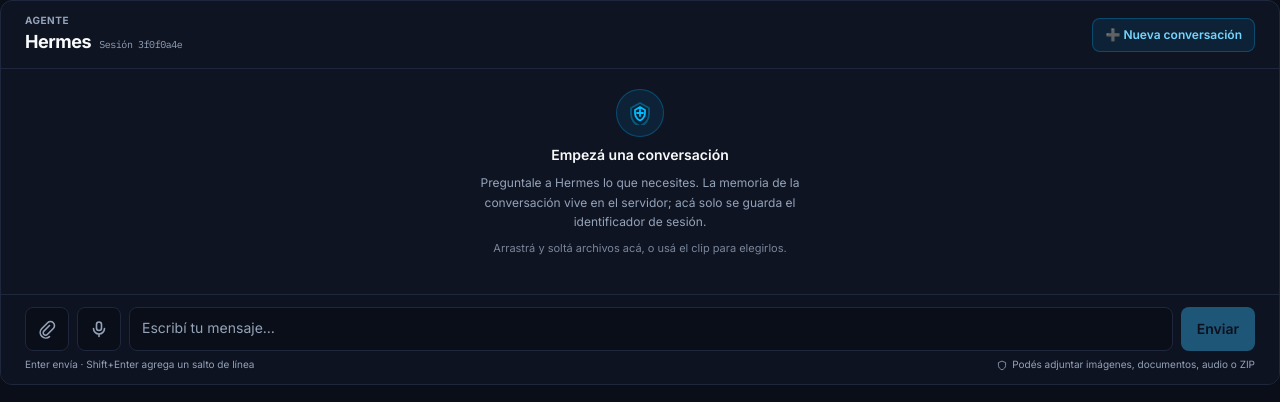
Scenario: HermesChat › never renders raw HTML from the agent
Type "hola" into the text box labelled "Escribí tu mensaje…".
click(651, 329); type("hola")  # box [129, 307, 1173, 351]
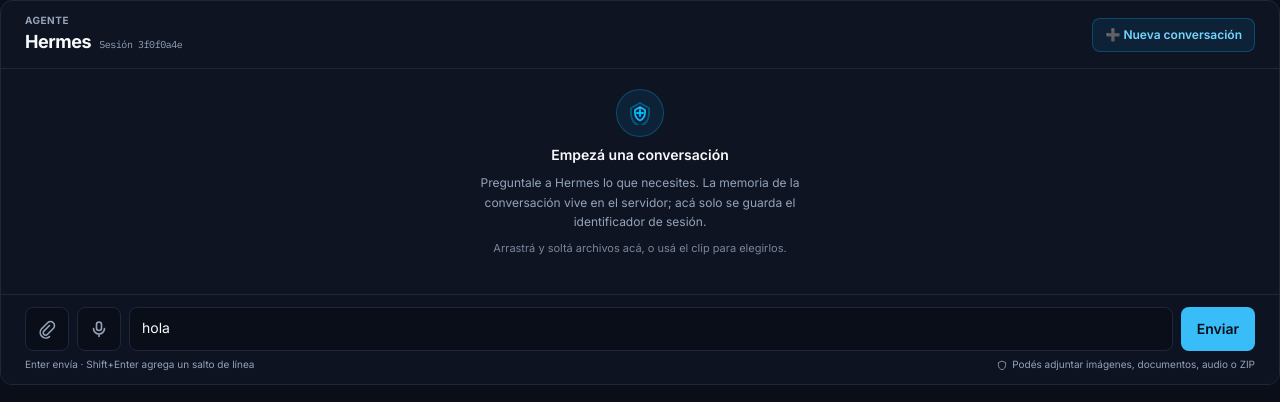
Click the button "Enviar".
click(1218, 329)  # box [1181, 307, 1255, 351]
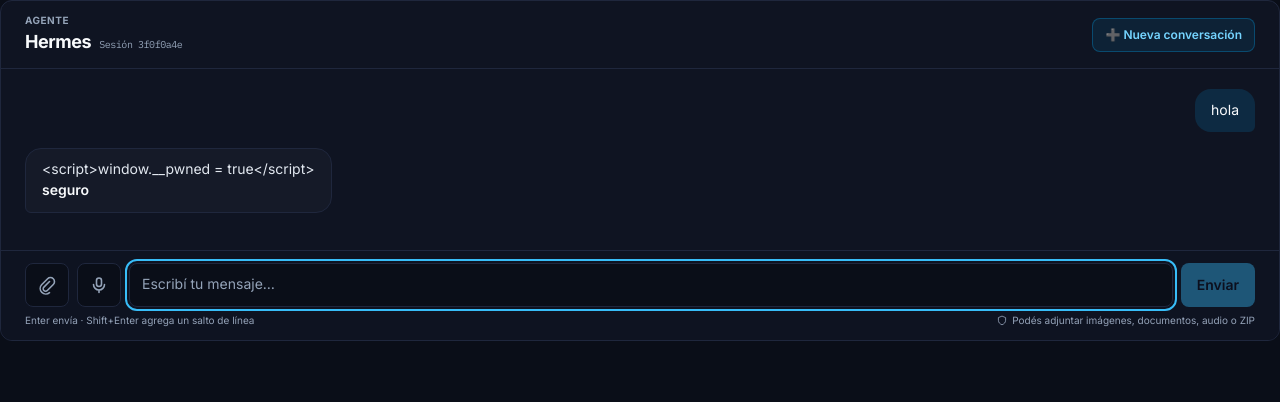
Check: the text "seguro" is shown, box [42, 181, 89, 198]
